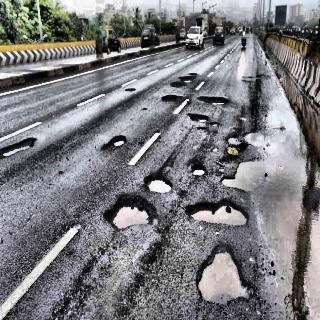pothole: (196, 242, 250, 306), (186, 193, 248, 231), (102, 191, 154, 233), (0, 134, 39, 159), (143, 171, 174, 197), (190, 113, 221, 136), (198, 94, 232, 108), (172, 72, 198, 86), (109, 132, 127, 149), (191, 164, 205, 178), (160, 92, 177, 102), (227, 134, 241, 146), (124, 84, 138, 92), (210, 146, 218, 152)
